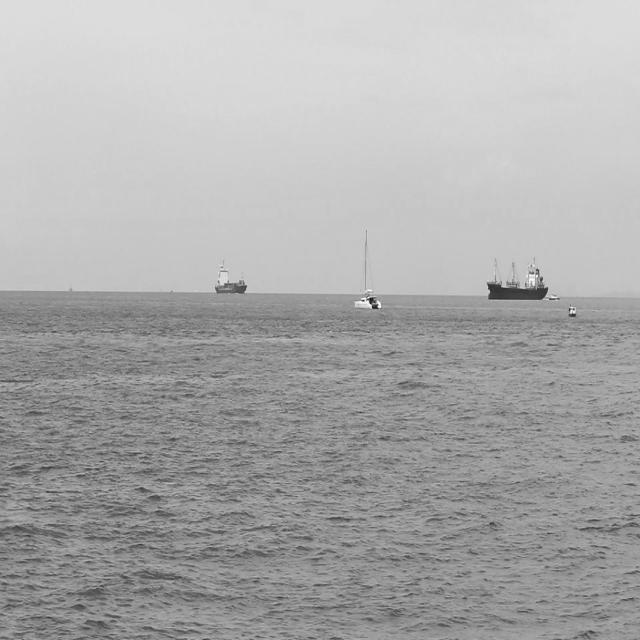boat: (353, 226, 382, 310)
ship: (486, 256, 550, 300), (213, 260, 247, 296), (566, 301, 577, 318), (544, 292, 560, 302)
